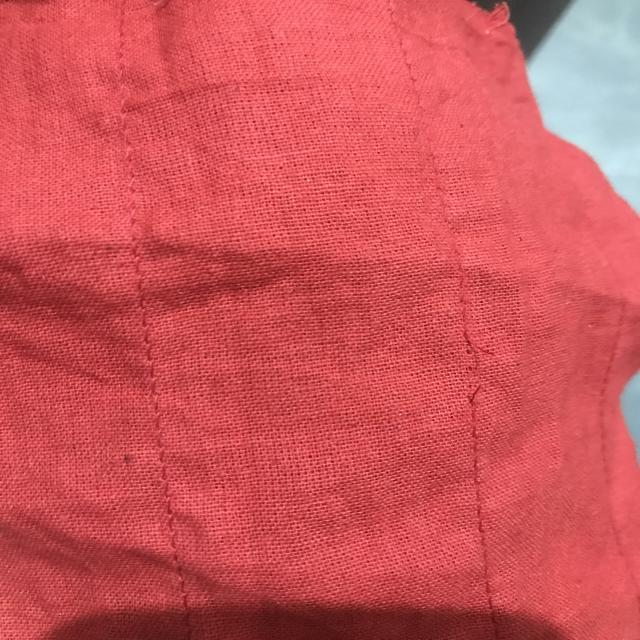Broken: (444, 314, 518, 430)
